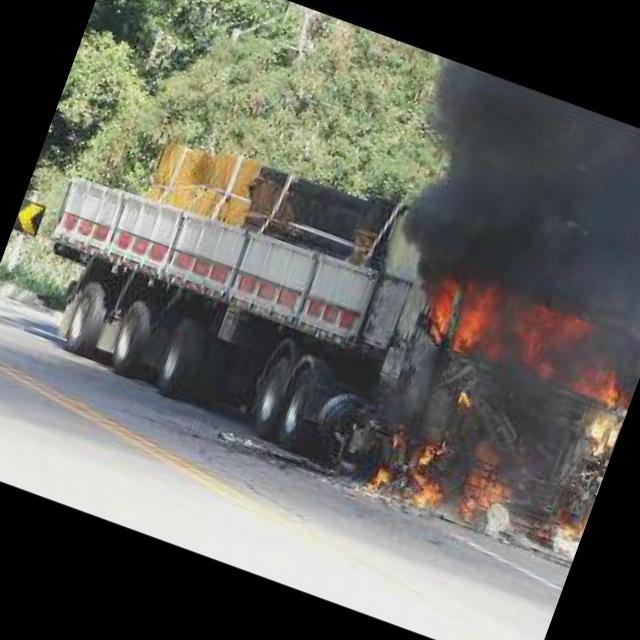fire: (421, 265, 640, 415), (456, 439, 536, 532), (407, 472, 450, 514), (548, 504, 590, 543), (418, 438, 449, 472), (364, 464, 394, 498)
smoke: (368, 48, 640, 359)
